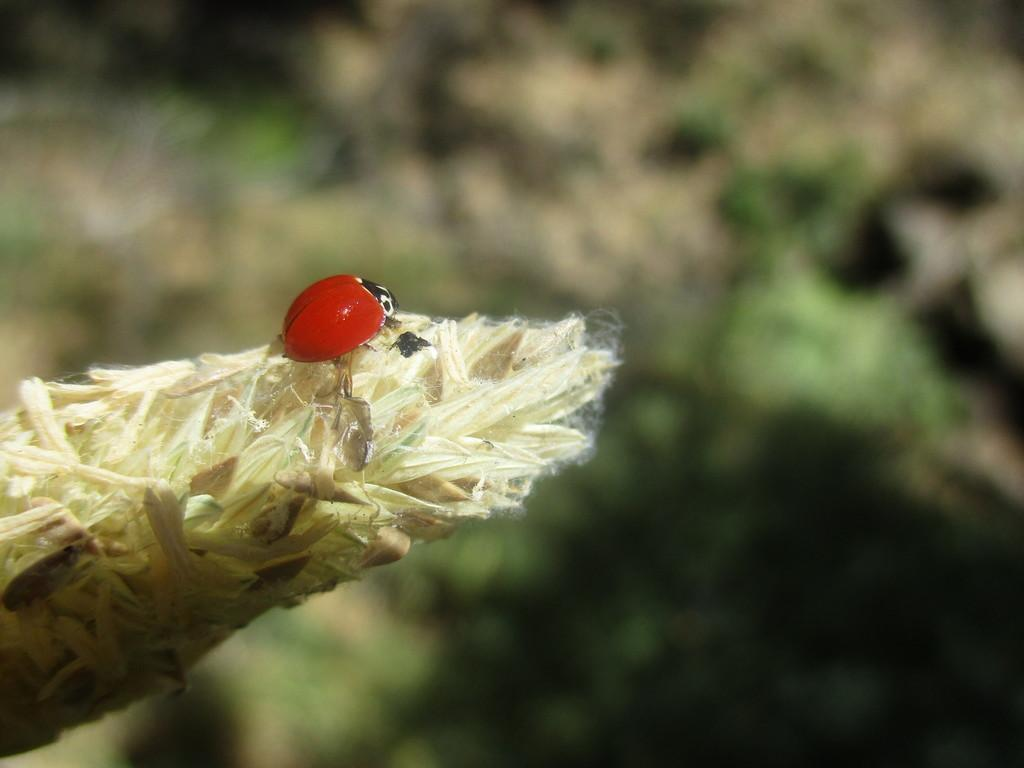ladybug: (279, 269, 405, 373)
